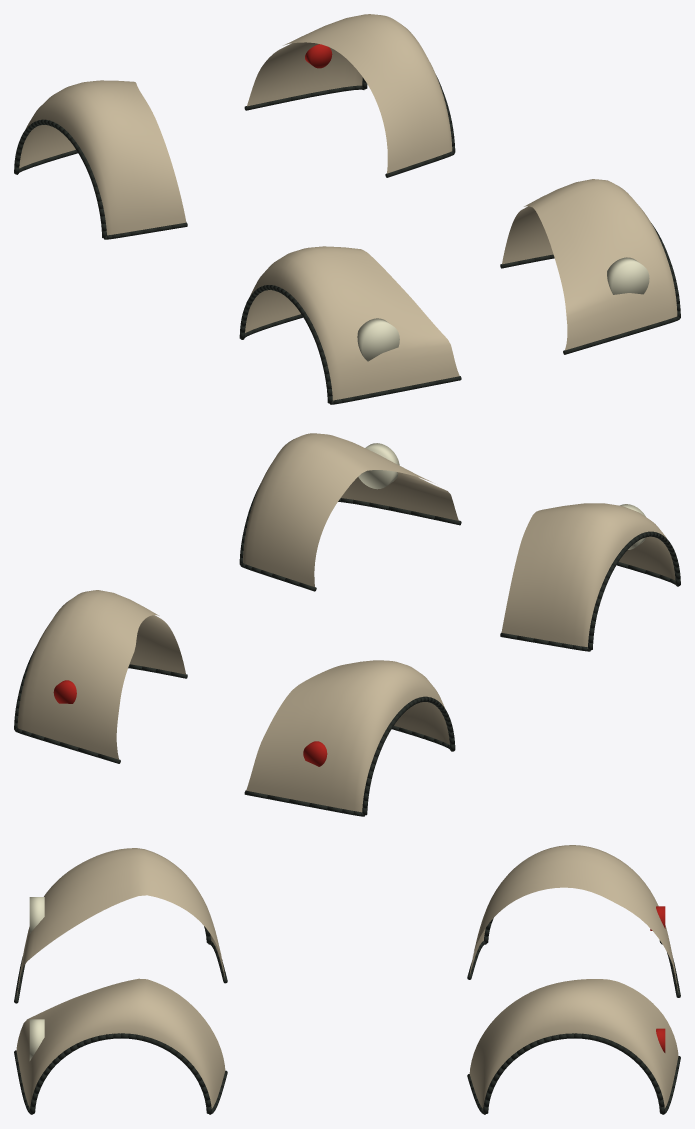
File: PART_010_FiberglassWideFenders.glb
3 views of the same model, one above another, from view 1: azimuth 30°, elevation 25°; view 2: azimuth 150°, elevation 25°; view 3: azimuth 270°, elevation 25° (orthographic).
Visible parts, largest first — view 1: BODY_BajaWide_Fender_FL, BODY_BajaWide_Fender_FR, BODY_BajaWide_Fender_RR, BODY_BajaWide_Fender_RL, EXTERIOR_BajaLamp_FL, EXTERIOR_BajaLamp_FR, TRIM_FenderLip_FL, TRIM_FenderLip_RL, TRIM_FrontCut_FL, TRIM_FrontCut_FR; view 2: BODY_BajaWide_Fender_RL, BODY_BajaWide_Fender_RR, BODY_BajaWide_Fender_FR, BODY_BajaWide_Fender_FL, TRIM_FenderLip_RL, TRIM_FenderLip_FL, EXTERIOR_BajaLamp_FR, TRIM_RearCut_RL, TRIM_FrontCut_FR; view 3: BODY_BajaWide_Fender_RR, BODY_BajaWide_Fender_FR, BODY_BajaWide_Fender_FL, BODY_BajaWide_Fender_RL, TRIM_FenderLip_FR, TRIM_FenderLip_RR, EXTERIOR_BajaLamp_FR, EXTERIOR_BajaLamp_FL.
Part boxes in pixels (<box>): BODY_BajaWide_Fender_FL: <box>245,246,459,400</box>; BODY_BajaWide_Fender_FR: <box>502,179,677,350</box>; BODY_BajaWide_Fender_RR: <box>247,14,452,173</box>; BODY_BajaWide_Fender_RL: <box>19,80,186,235</box>; EXTERIOR_BajaLamp_FL: <box>357,318,399,361</box>; EXTERIOR_BajaLamp_FR: <box>607,257,649,294</box>; TRIM_FenderLip_FL: <box>239,285,332,403</box>; TRIM_FenderLip_RL: <box>14,119,106,238</box>; TRIM_FrontCut_FL: <box>330,376,461,404</box>; TRIM_FrontCut_FR: <box>563,316,680,354</box>; BODY_BajaWide_Fender_RL: <box>246,660,449,812</box>; BODY_BajaWide_Fender_RR: <box>17,590,185,759</box>; BODY_BajaWide_Fender_FR: <box>243,433,458,586</box>; BODY_BajaWide_Fender_FL: <box>501,503,675,648</box>; TRIM_FenderLip_RL: <box>362,696,455,815</box>; TRIM_FenderLip_FL: <box>588,531,680,650</box>; EXTERIOR_BajaLamp_FR: <box>358,443,399,489</box>; TRIM_RearCut_RL: <box>244,790,364,816</box>; TRIM_FrontCut_FR: <box>338,498,461,525</box>; BODY_BajaWide_Fender_RR: <box>469,979,678,1108</box>; BODY_BajaWide_Fender_FR: <box>16,978,225,1108</box>; BODY_BajaWide_Fender_FL: <box>16,848,224,997</box>; BODY_BajaWide_Fender_RL: <box>470,845,678,992</box>; TRIM_FenderLip_FR: <box>30,1033,211,1113</box>; TRIM_FenderLip_RR: <box>483,1033,664,1113</box>; EXTERIOR_BajaLamp_FR: <box>29,1019,44,1060</box>; EXTERIOR_BajaLamp_FL: <box>29,897,44,933</box>.
Size of the model in its own units: 2.15 by 0.6379 by 3.5.
